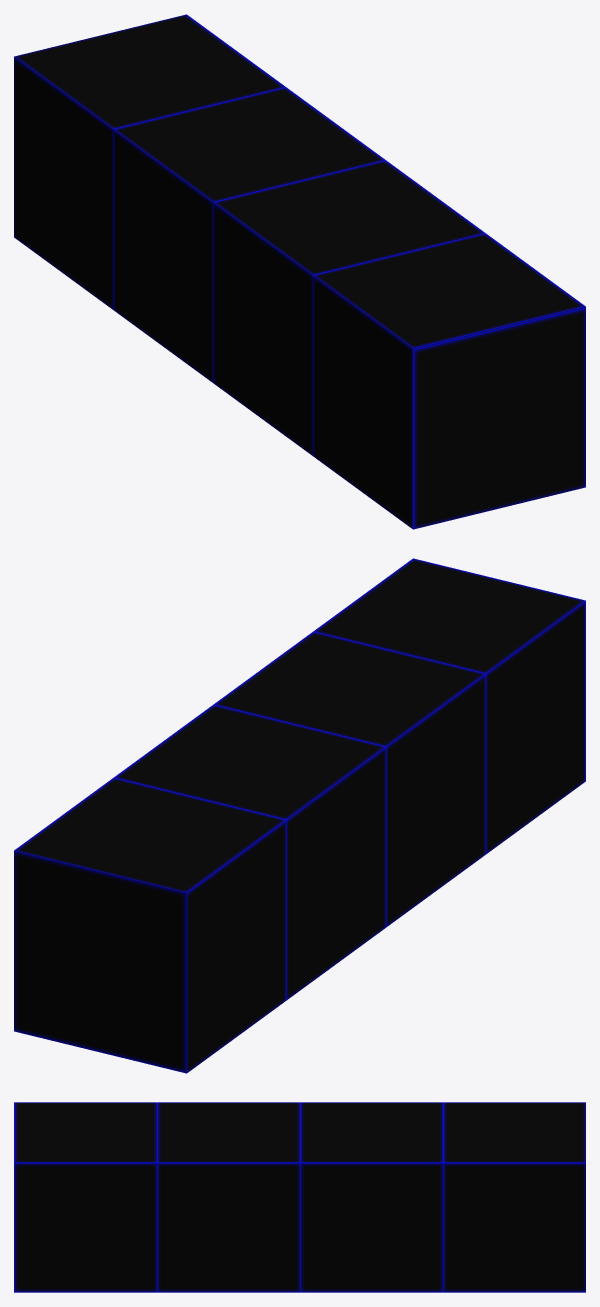
3 views of the same model, one above another, from view 1: azimuth 30°, elevation 25°; view 2: azimuth 150°, elevation 25°; view 3: azimuth 270°, elevation 25° (orthographic). The views are drawn at different scales.
Visible parts, largest first — view 1: Box001; view 2: Box001; view 3: Box001.
Part boxes in pixels (bbox=[...]): Box001: bbox=[14, 14, 585, 529]; Box001: bbox=[14, 558, 585, 1073]; Box001: bbox=[14, 1102, 585, 1292].
Bounding box in the file's own units: 1 × 1 × 4.
Materials: 1 (1 with a texture image).
